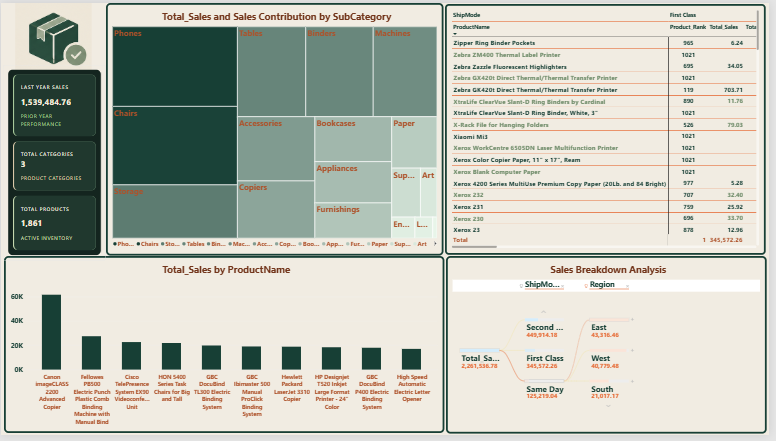

This screenshot's page, from the dashboard's own definition file:
{"tool":"powerbi","page":{"name":"Product Performance","canvas":[2560,1440],"ordinal":3},"visuals":[{"type":"columnChart","fields":{"Category":["Products.ProductName"],"Y":["_Measures.Total_Sales"]},"box":[11.3,844.7,1468.3,589.6],"z":0},{"type":"decompositionTreeVisual","title":"Sales Breakdown Analysis","fields":{"Analyze":["_Measures.Total_Sales"],"ExplainBy":["Orders.ShipMode","Orders.Region","Products.SubCategory"]},"box":[1482.5,841.9,1068.7,592.4],"z":1000},{"type":"pivotTable","fields":{"Columns":["Orders.ShipMode"],"Rows":["Products.ProductName"],"Values":["_Measures.Product_Rank","_Measures.Total_Sales","_Measures.Total_Orders"]},"box":[1479.7,2.8,1068.7,836.2],"z":2000},{"type":"treemap","fields":{"Group":["Products.SubCategory"],"Values":["_Measures.Total_Sales"]},"box":[351.5,0,1125.4,841.9],"z":3000},{"type":"image","box":[2.8,0,343,226.8],"z":4000},{"type":"htmlContent443BE3AD55E043BF878BED274D3A6855","fields":{"content":["Customers.EStore Products Vertical HTML"]},"box":[5.7,206.9,343,652],"z":5000}]}

Visuals, with their boxes in screenshot pixels (x1, y1, x2, y2), scaled from the page's 2560x1440 canvas onto the 776x441 screenshot:
columnChart - Products.ProductName x _Measures.Total_Sales: locate(3, 259, 449, 439)
"Sales Breakdown Analysis" decompositionTreeVisual: locate(449, 258, 773, 439)
pivotTable - Orders.ShipMode x Products.ProductName: locate(449, 1, 772, 257)
treemap - Products.SubCategory x _Measures.Total_Sales: locate(107, 0, 448, 258)
image: locate(1, 0, 105, 69)
htmlContent443BE3AD55E043BF878BED274D3A6855 - Customers.EStore Products Vertical HTML: locate(2, 63, 106, 263)
